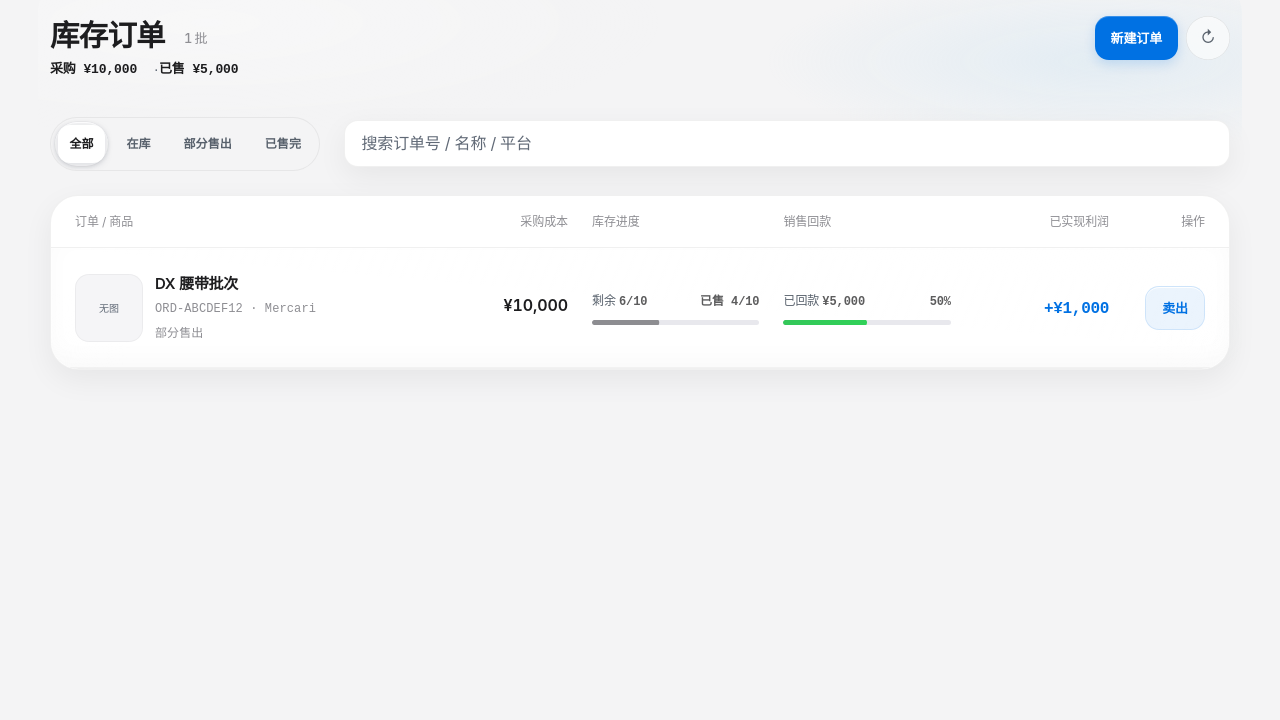
InventoryOrdersWorkspace › portals the registration form into the shell overlay root, not document.body
The image size is (1280, 720).
Click the button "新建订单": (1136, 38) [1094,16,1178,60]
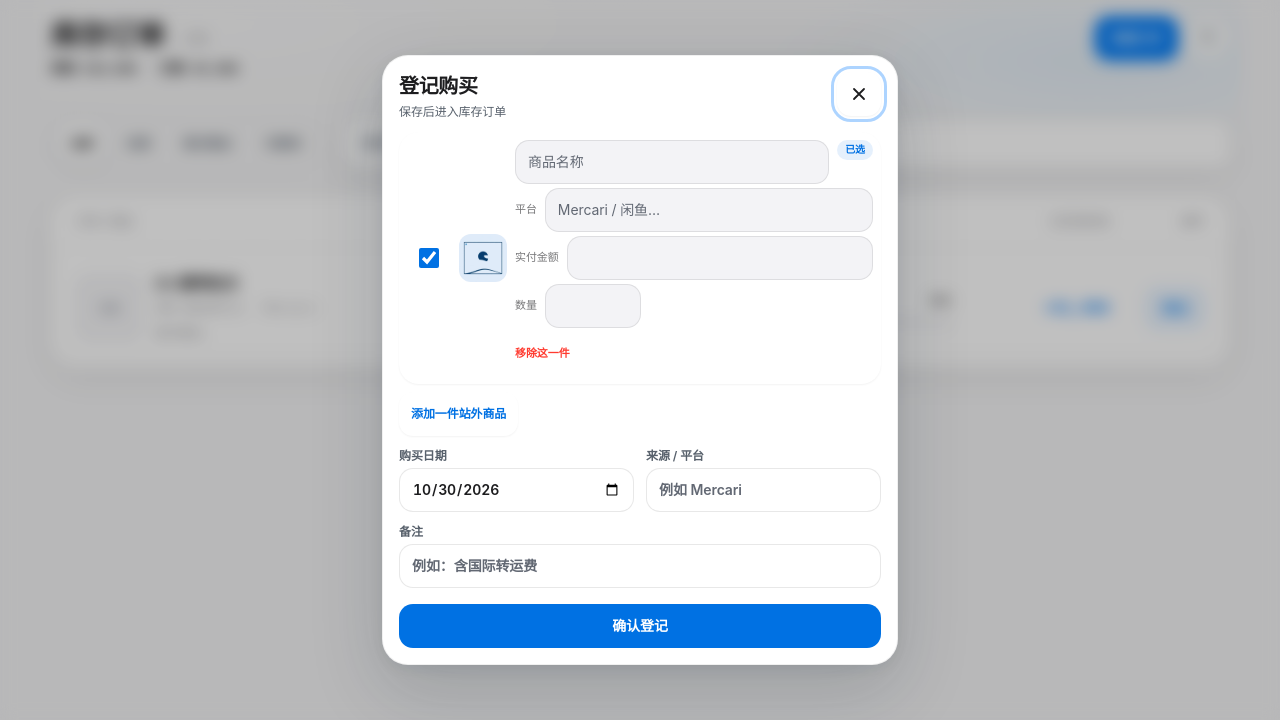
Expected: the dialog is shown, [382,55,898,665]
